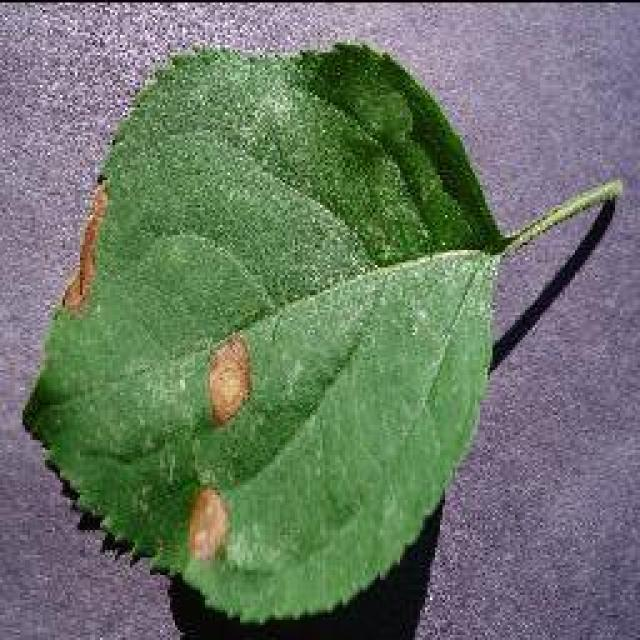apple healthy: (18, 38, 622, 638)
